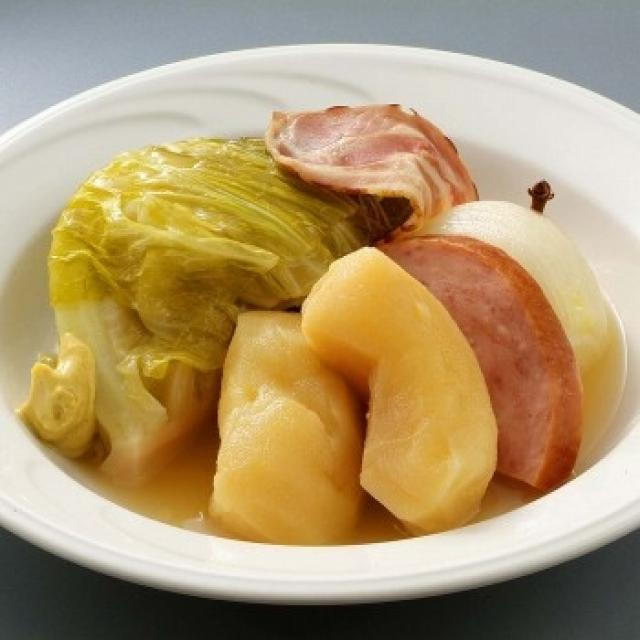汤锅炖物: (13, 68, 631, 572)
